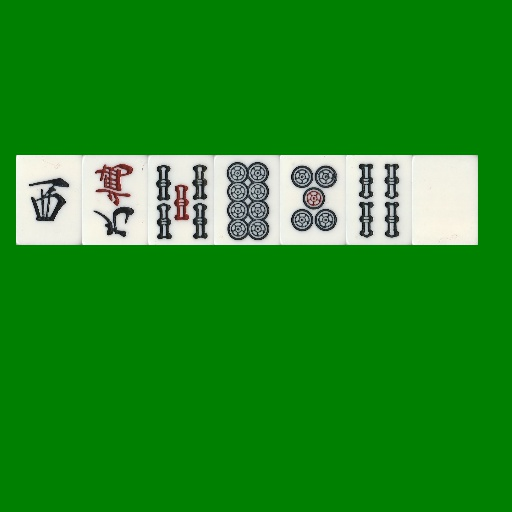4s: (346, 155, 412, 245)
5p: (280, 155, 346, 245)
5s: (148, 155, 214, 245)
8p: (214, 155, 280, 245)
9m: (82, 155, 148, 245)
west: (16, 155, 82, 245)
white: (412, 155, 478, 245)
